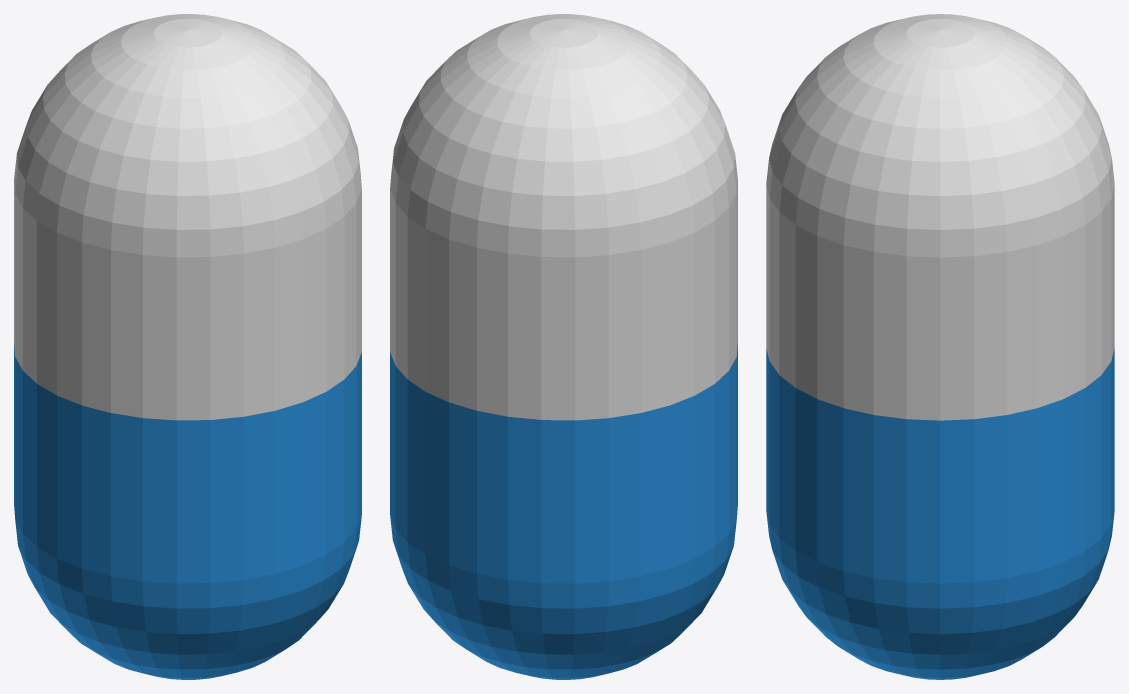
File: Pill.fbx
3 renders of one model, left to right at view 1: azimuth 30°, elevation 25°; view 2: azimuth 150°, elevation 25°; view 3: azimuth 270°, elevation 25°, orthographic.
Visible parts, largest first — view 1: Sphere; view 2: Sphere; view 3: Sphere.
Boxes of the visible parts, left/top/right/bottom form: Sphere: left=14, top=14, right=361, bottom=679; Sphere: left=390, top=14, right=737, bottom=679; Sphere: left=766, top=14, right=1114, bottom=679.
Bounding box in the file's own units: 199 × 400 × 199.
